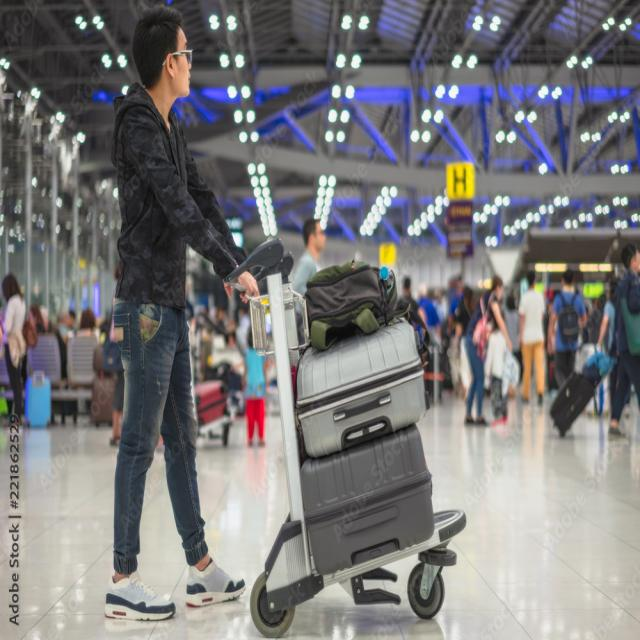Person: (104, 6, 260, 622)
